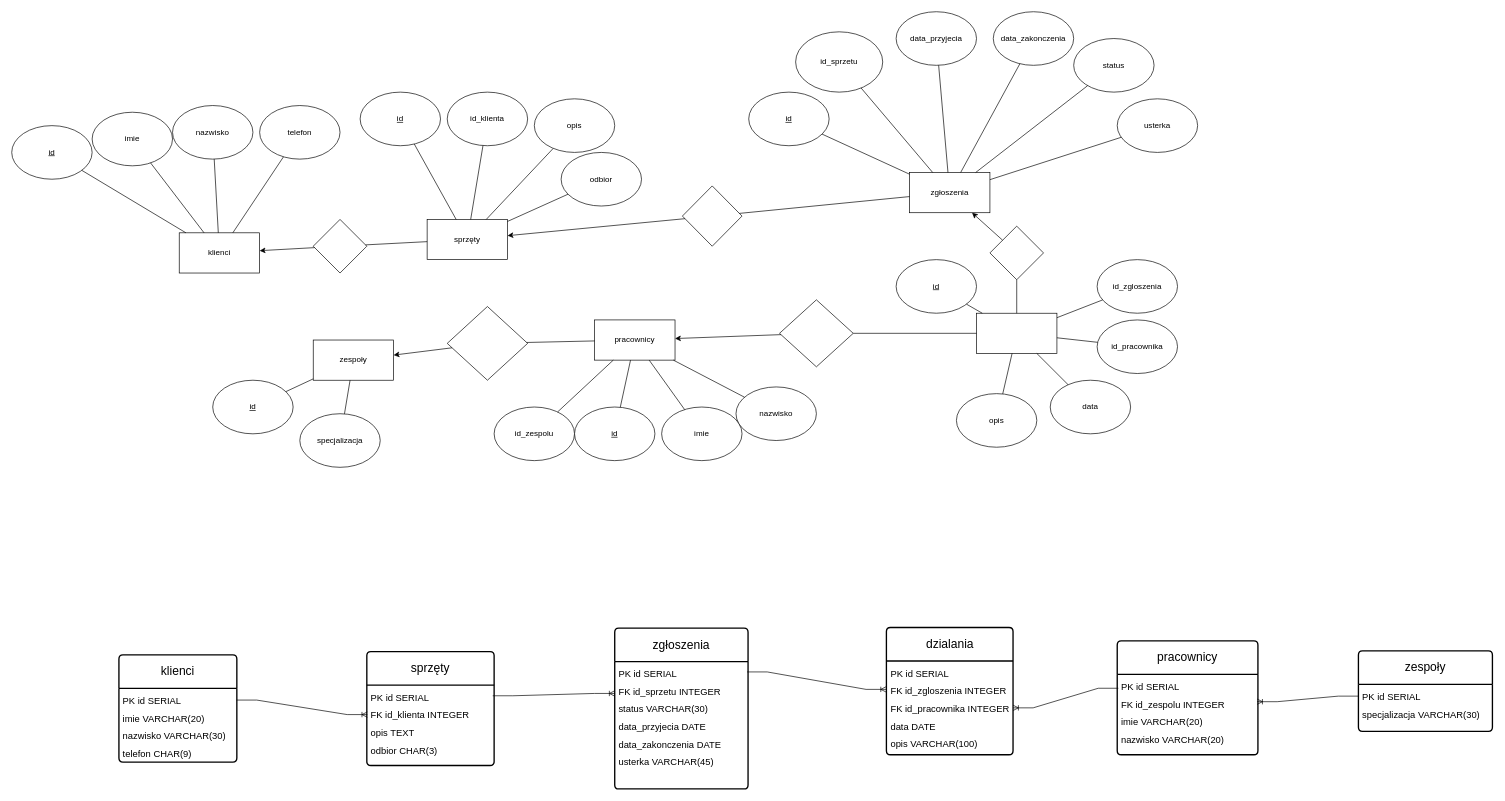
Some shapes in this 1505 by 801 pixel diagram are drawn without their labels. Here are the shapes that lost their labels. From the top down, the centre of each, then its label:
the point at 712,215: zgłoszenia serwisowe
the point at 340,246: posiadanie
the point at 1016,252: serwis
the point at 487,343: przynależność do zespołu
the point at 816,333: aktywność pracownika
the point at 1016,333: działania
